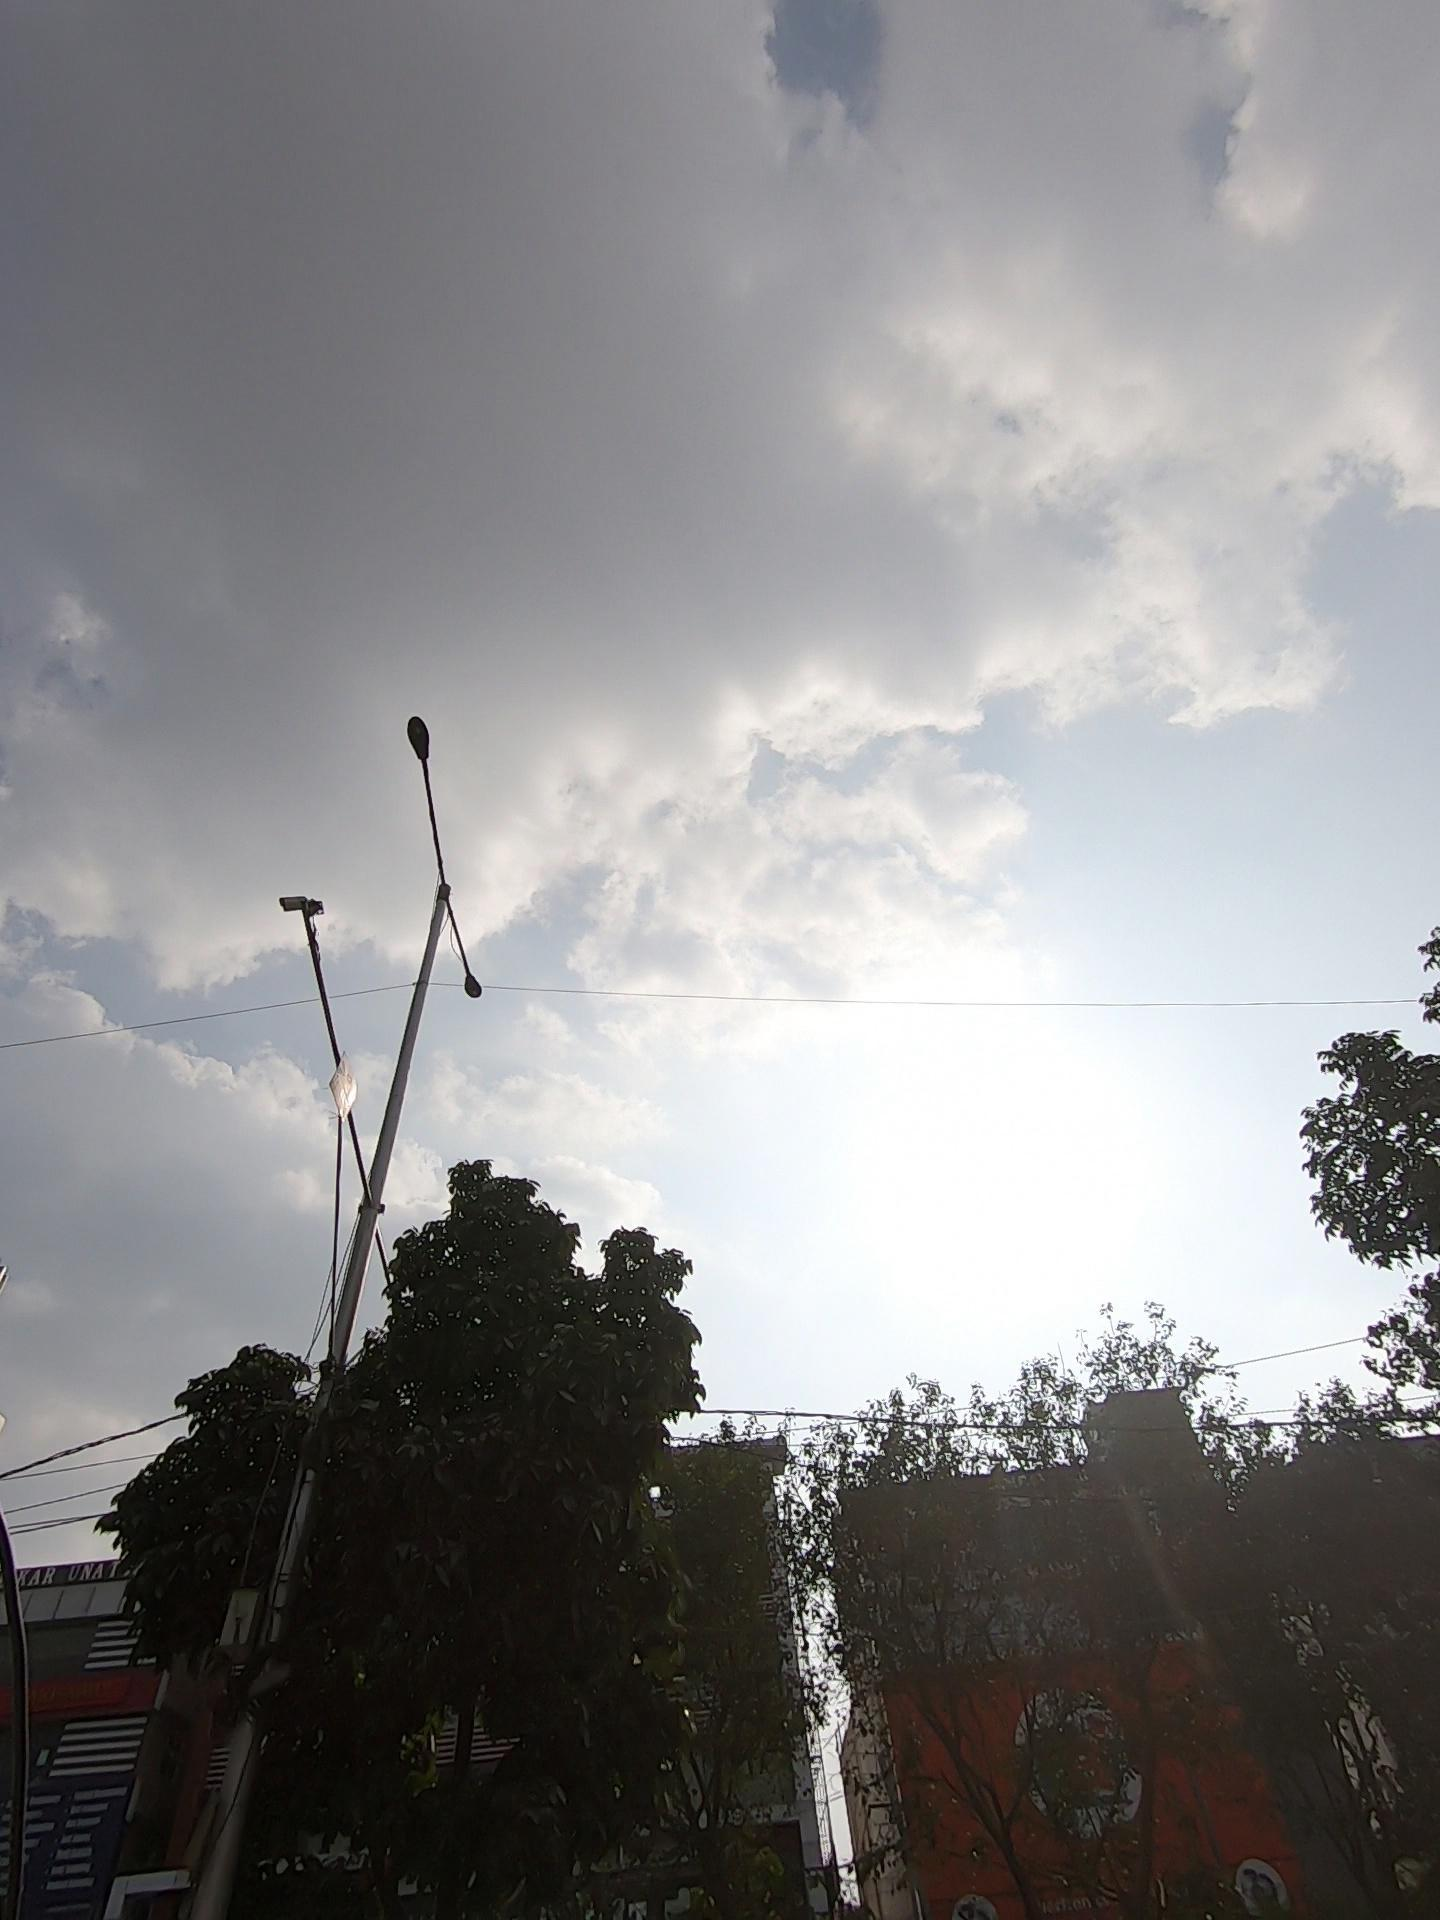off: (360, 641, 584, 1031)
